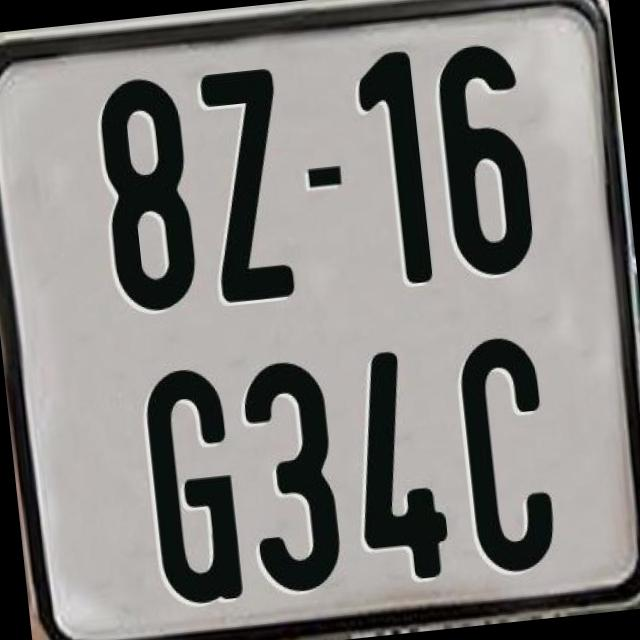1: (352, 51, 431, 292)
3: (236, 354, 342, 596)
4: (342, 346, 451, 592)
6: (430, 36, 539, 282)
8: (95, 69, 207, 309)
C: (456, 334, 559, 575)
G: (140, 361, 248, 608)
Z: (195, 64, 296, 302)
